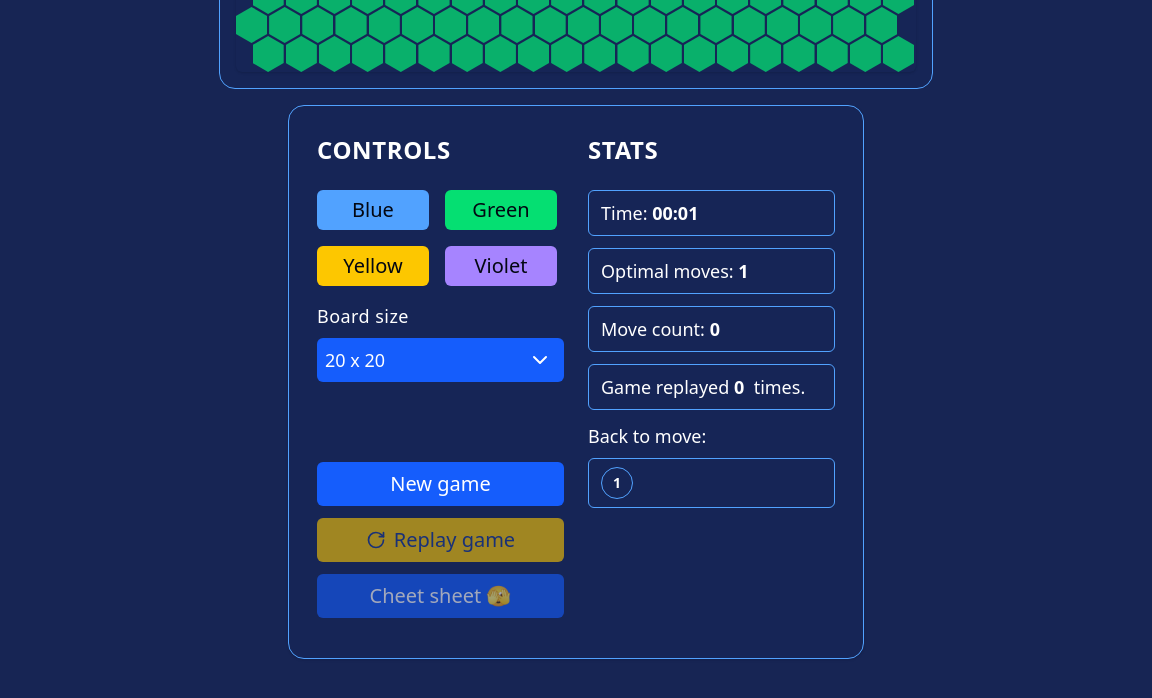
Test: VirusSpreadHex new UI controls › applies selected board size and starts a matching new game in test mode
(page scrolled)
Click the button named "board size" at (440, 360), box left=317, top=338, right=564, bottom=382
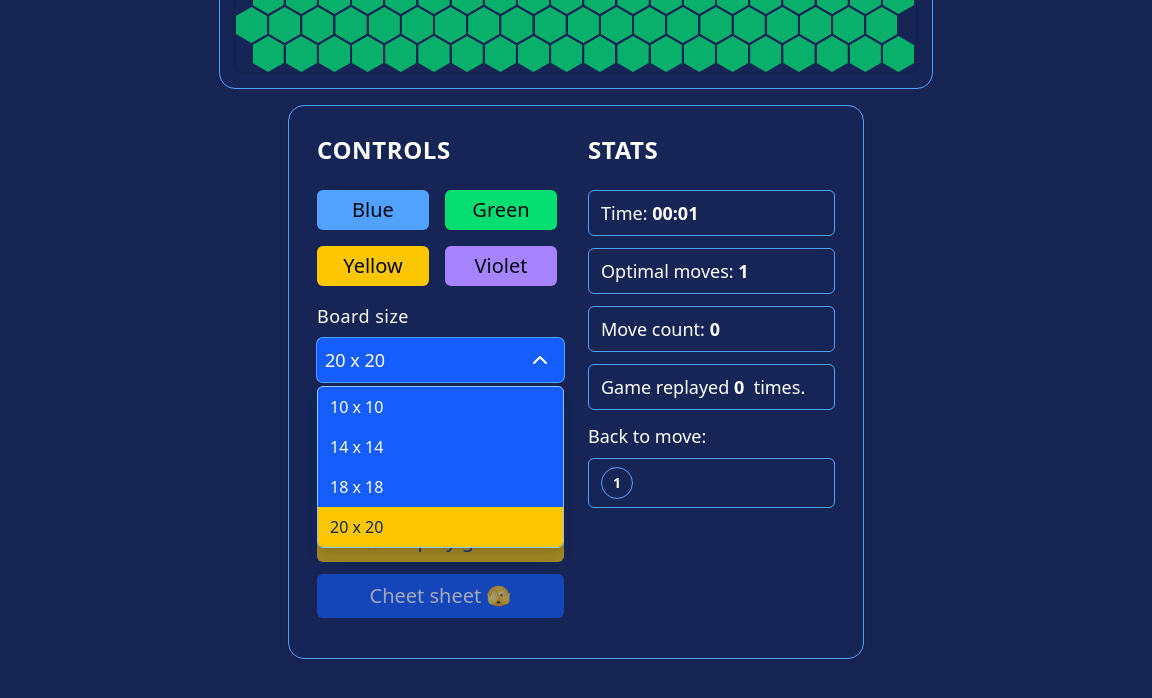
Click the button "10 x 10" at (440, 407), box left=318, top=387, right=563, bottom=427
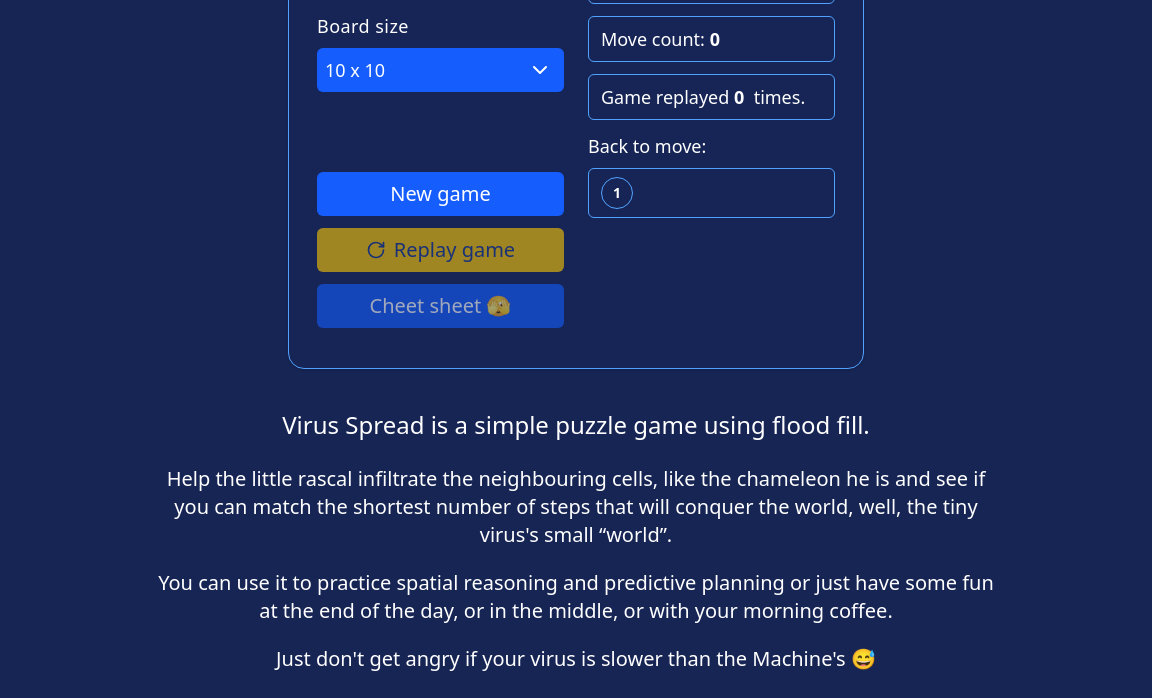
Expected: the button named "board size" reads "10 x 10", left=317, top=48, right=564, bottom=92
